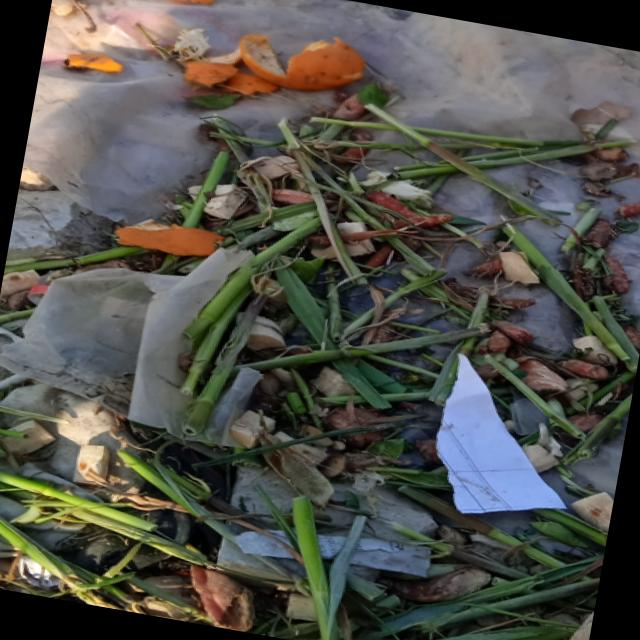paper: (0, 450, 262, 589), (473, 202, 640, 384), (271, 489, 427, 640), (218, 16, 396, 118), (116, 202, 235, 268)
